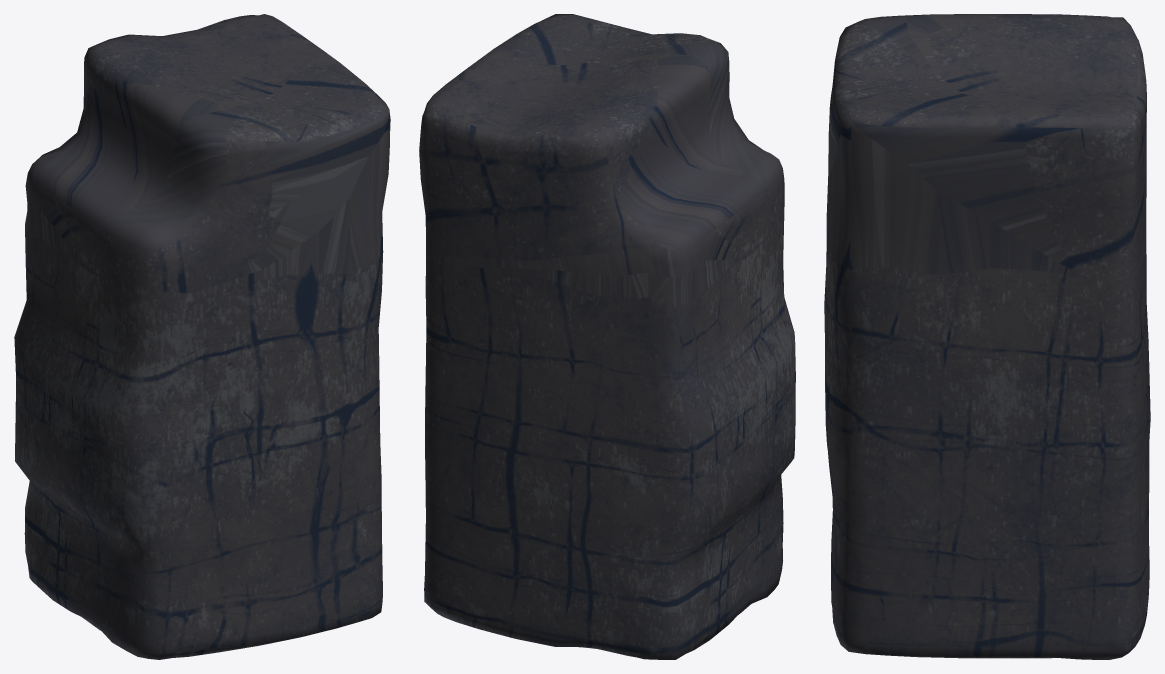
The model's file is obstacle_petit1.OBJ.
3 renders of one model, left to right at view 1: azimuth 30°, elevation 25°; view 2: azimuth 150°, elevation 25°; view 3: azimuth 270°, elevation 25°, orthographic. The views are drawn at different scales.
Visible parts, largest first — view 1: obstacle_petit1:Group59509; view 2: obstacle_petit1:Group59509; view 3: obstacle_petit1:Group59509.
Part boxes in pixels (x1,y1,x2,y2): obstacle_petit1:Group59509: (14, 14, 390, 659); obstacle_petit1:Group59509: (419, 14, 795, 659); obstacle_petit1:Group59509: (824, 14, 1150, 659).
Bounding box in the file's own units: 636 × 1144 × 608.
1 material, 1 textured.
